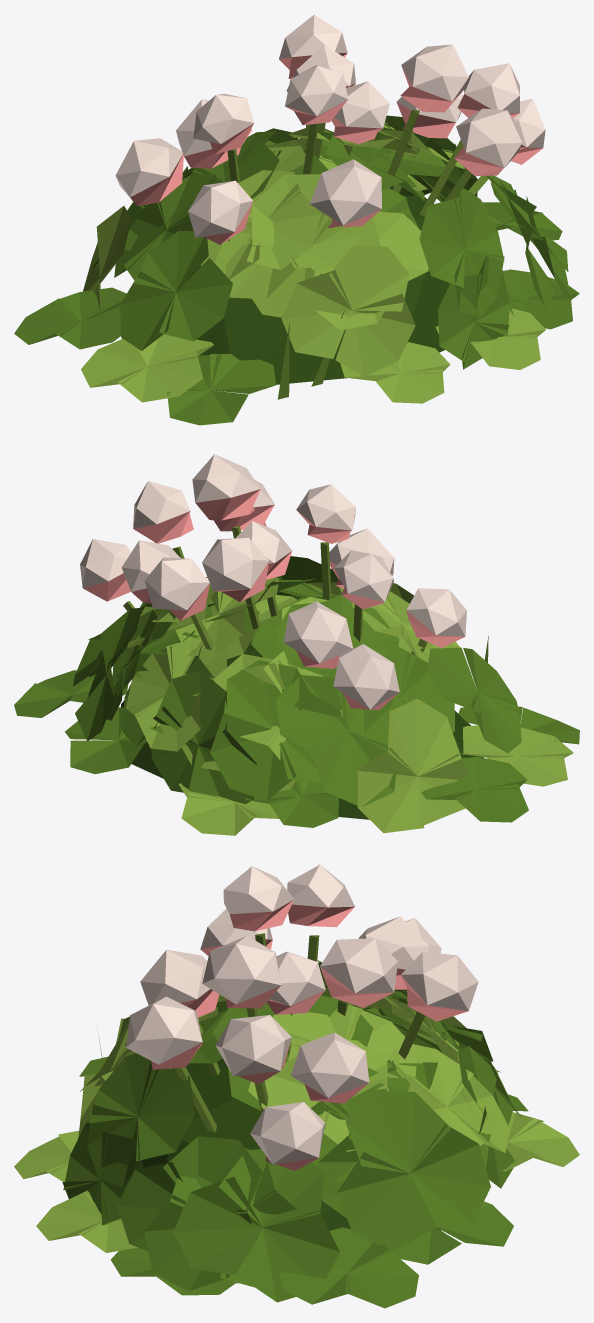
3 renders of one model, top to bottom at view 1: azimuth 30°, elevation 25°; view 2: azimuth 150°, elevation 25°; view 3: azimuth 270°, elevation 25°, orthographic. The views are drawn at different scales.
Visible parts, largest first — view 1: trefoils_green, trefoils_pale, heads_cream, mound_core, heads_pink, flower_stems, grass; view 2: trefoils_green, trefoils_pale, heads_cream, heads_pink, flower_stems, mound_core; view 3: trefoils_green, heads_cream, trefoils_pale, heads_pink, mound_core, flower_stems.
Boxes of the visible parts, <box> form: trefoils_green: <box>14,115,579,425</box>; trefoils_pale: <box>81,122,545,403</box>; heads_cream: <box>115,14,545,237</box>; mound_core: <box>122,195,450,384</box>; heads_pink: <box>130,53,542,244</box>; flower_stems: <box>227,110,490,241</box>; grass: <box>277,309,344,399</box>; trefoils_green: <box>14,556,579,827</box>; trefoils_pale: <box>126,577,573,835</box>; heads_cream: <box>80,454,466,709</box>; heads_pink: <box>83,489,464,710</box>; flower_stems: <box>123,526,427,657</box>; mound_core: <box>121,639,483,819</box>; trefoils_green: <box>62,960,528,1308</box>; heads_cream: <box>126,864,478,1164</box>; trefoils_pale: <box>14,989,579,1252</box>; heads_pink: <box>151,899,468,1170</box>; mound_core: <box>142,1058,441,1230</box>; flower_stems: <box>175,933,424,1132</box>.
Bounding box in the file's own units: 0.4562 × 0.2243 × 0.3761.
